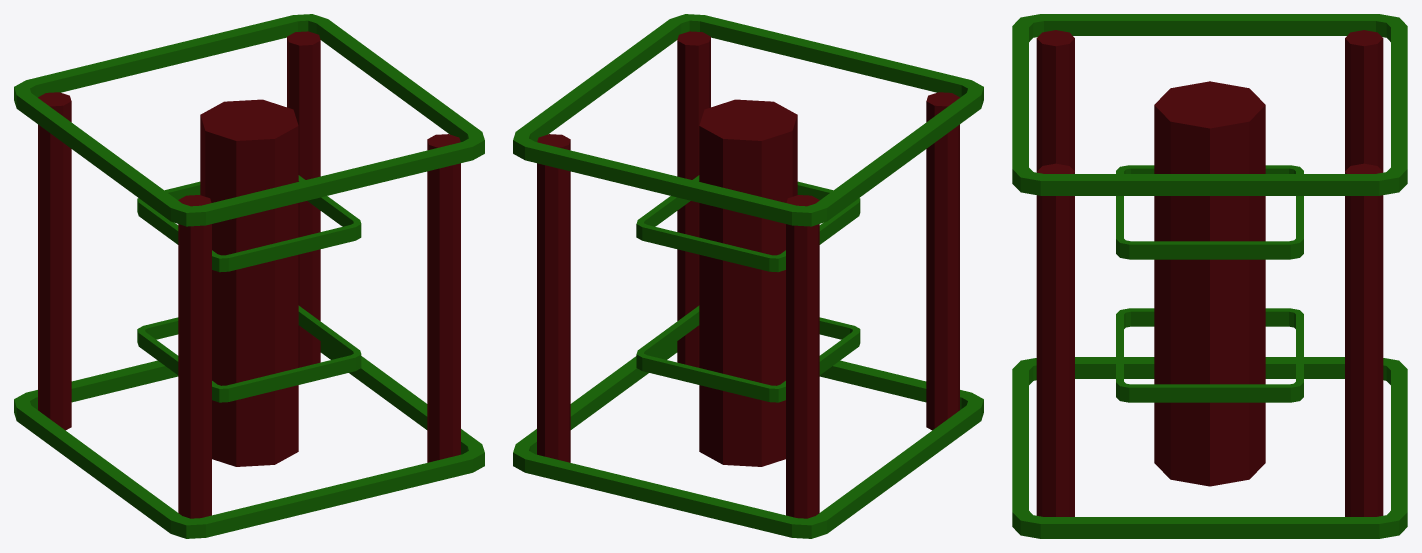
The model's file is 15_Container.fbx.
3 renders of one model, left to right at view 1: azimuth 30°, elevation 25°; view 2: azimuth 150°, elevation 25°; view 3: azimuth 270°, elevation 25°, orthographic. The views are drawn at different scales.
Visible parts, largest first — view 1: Container; view 2: Container; view 3: Container.
Boxes of the visible parts, box(x1,y1,x2,y2) form: Container: box(14, 14, 484, 538); Container: box(513, 14, 983, 538); Container: box(1012, 14, 1407, 538).
Size of the model in its own units: 100 by 102 by 100.
